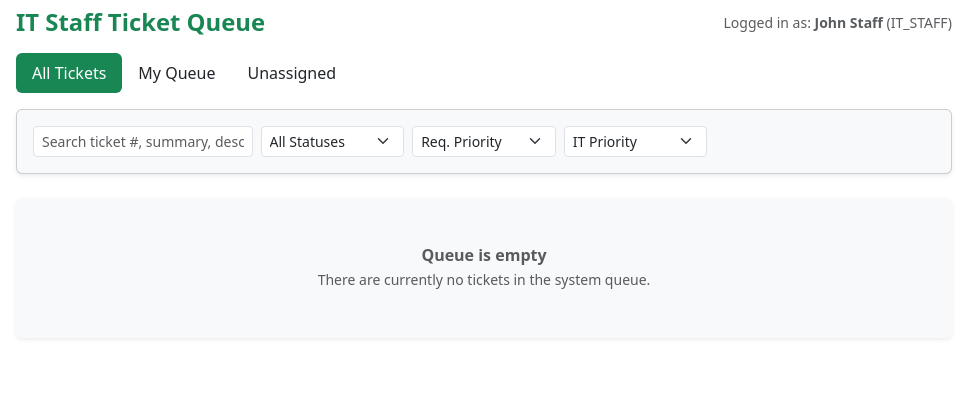
Test: StaffTicketQueue Component Suite (StaffTicketQueue.test.tsx) › renders no-results state when search/filter returns zero matches
In the field with test id "queue-search-input": (143, 141) [33, 126, 252, 157], type "NonExistentKeyword"
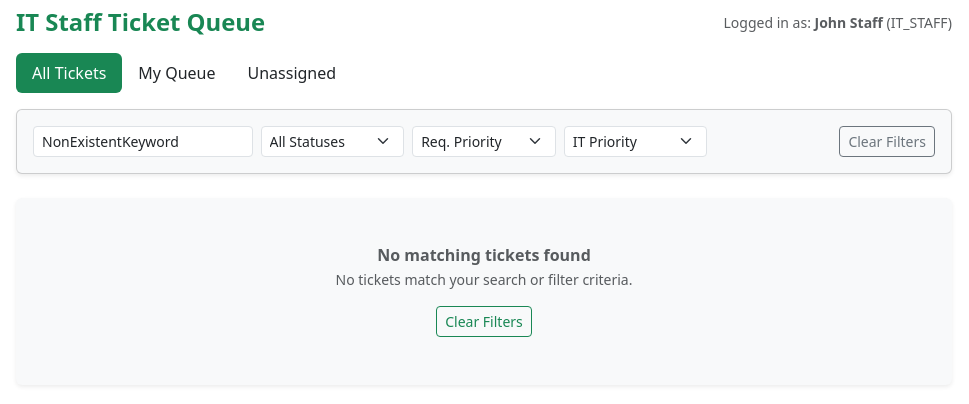
Now the heading "No matching tickets found" is shown, box [377, 244, 591, 266]
